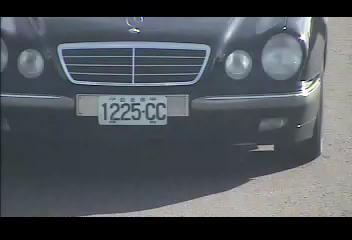plate: (96, 95, 168, 126)
